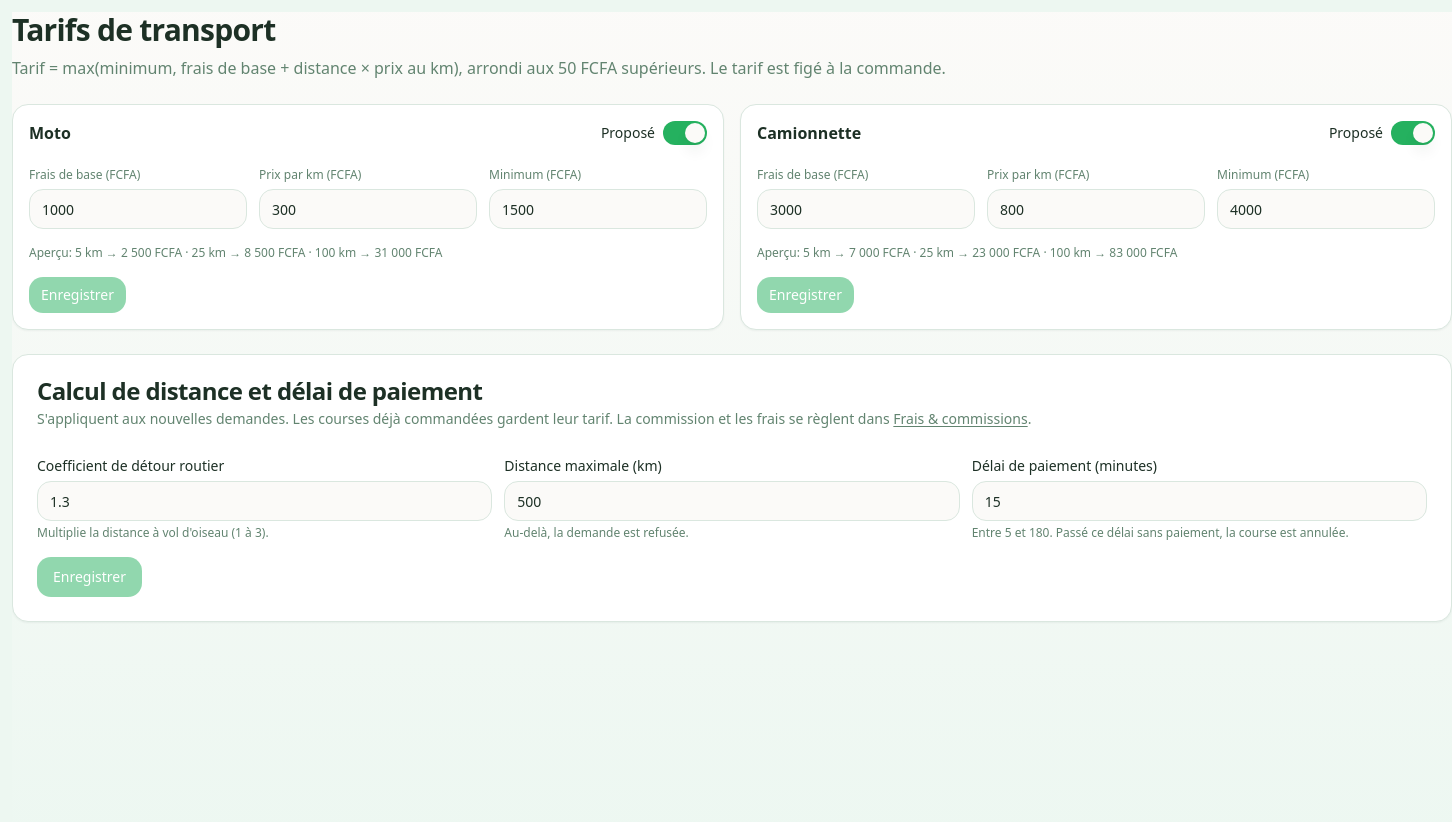
AdminTransportPricingPage › keeps Save disabled until something changes, then saves the new values
Later steps or results of the test are not shown.
Check: the element with test id "tariff-moto" is shown, box [12, 104, 724, 330]
Check: the button "Enregistrer" below "Moto" is disabled, box [29, 277, 126, 313]
Replace the text in the field with id "moto-price_per_km" with "350". click: coordinates (368, 209)
box: [259, 189, 477, 229]
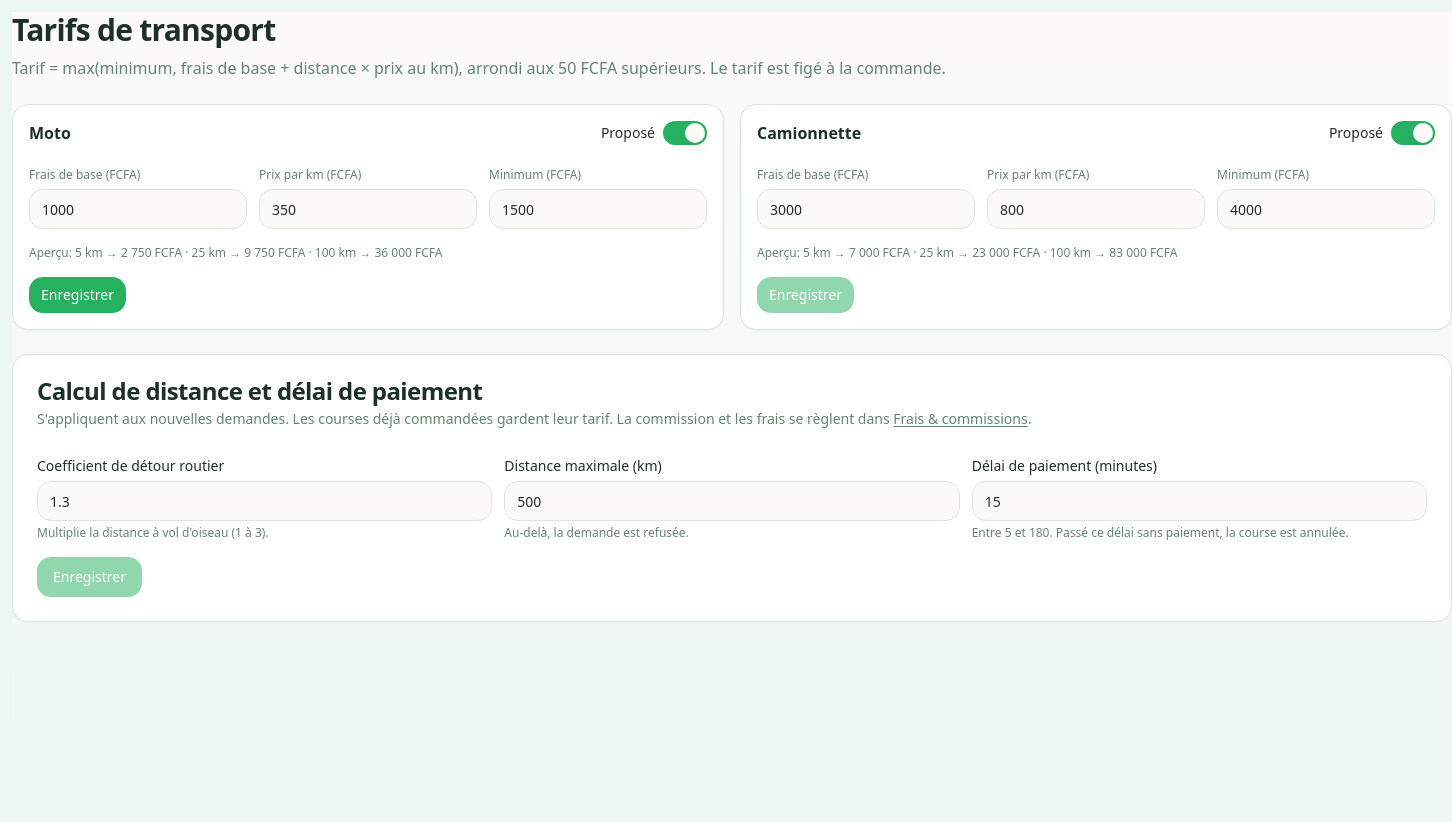
Check: the button "Enregistrer" below "Moto" is enabled, box [29, 277, 126, 313]
Check: the text with test id "preview-moto" shows "25 km → 9 750 FCFA", box [75, 244, 442, 261]
